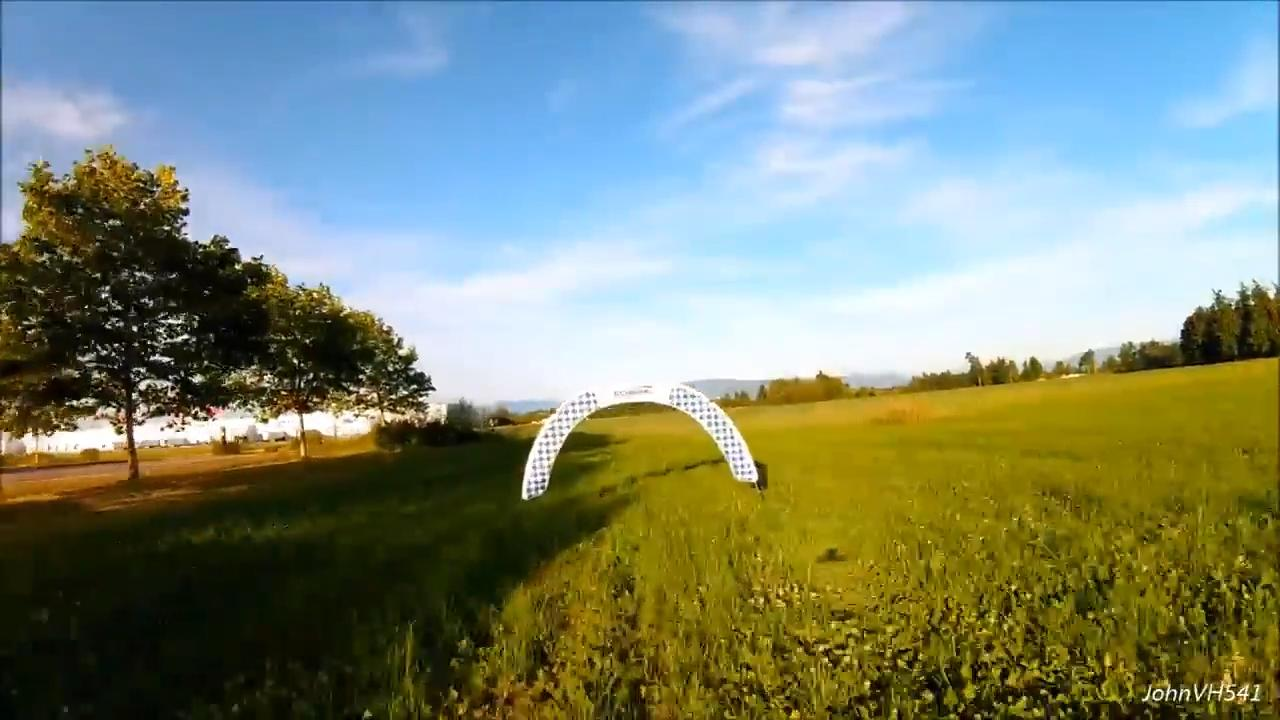gate: (520, 379, 761, 496)
